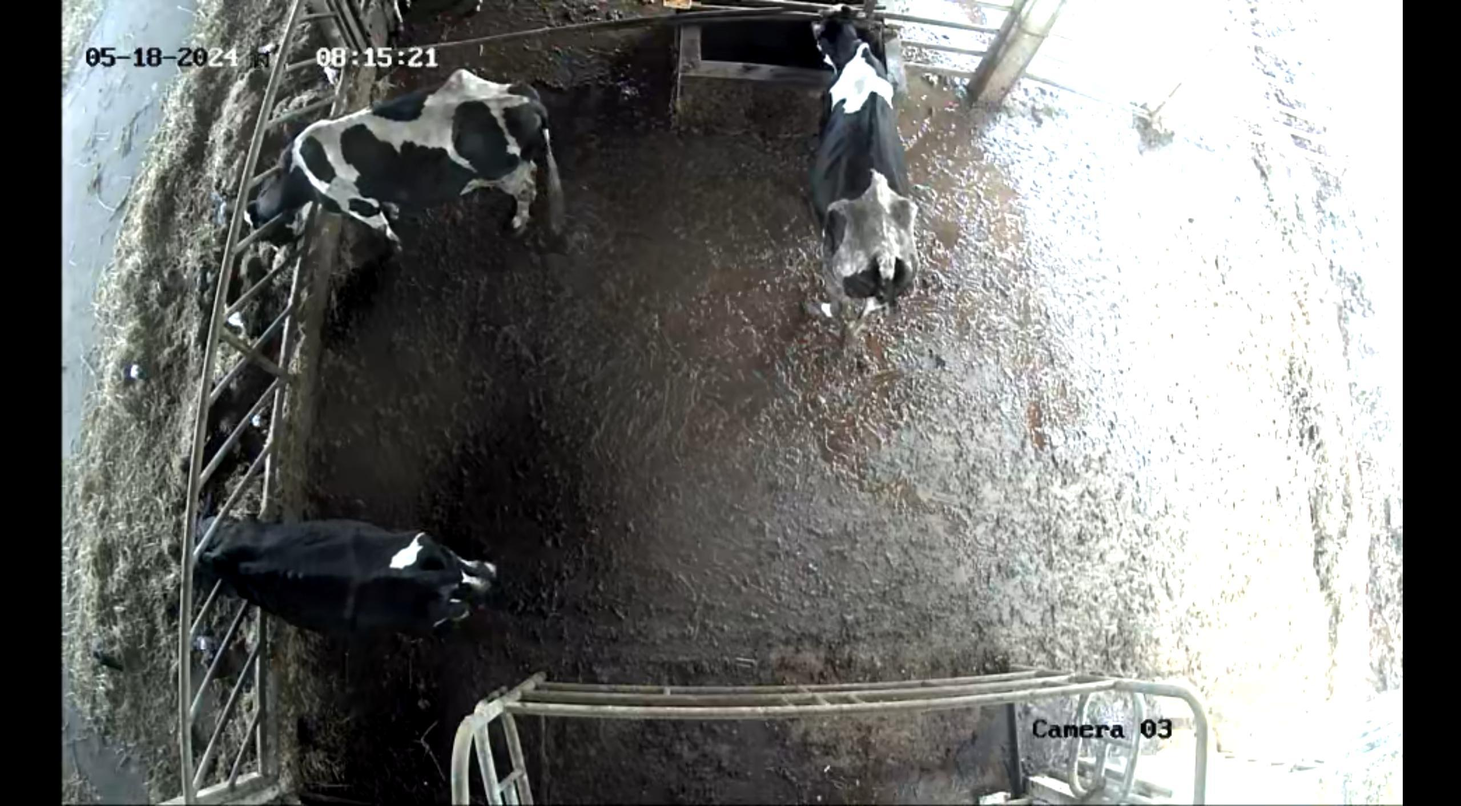drink: (773, 7, 887, 149)
eat: (198, 131, 357, 256), (143, 503, 284, 600)
